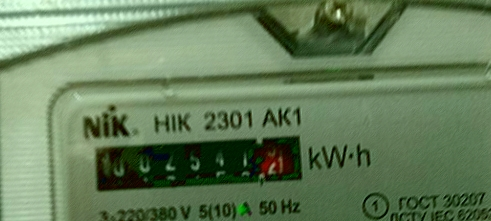0: (108, 152, 127, 179), (136, 148, 151, 175)
1: (236, 141, 250, 169)
2: (160, 146, 177, 172)
4: (212, 143, 226, 167)
5: (185, 144, 204, 173)
6: (263, 157, 279, 175)
screen: (81, 121, 317, 203)
